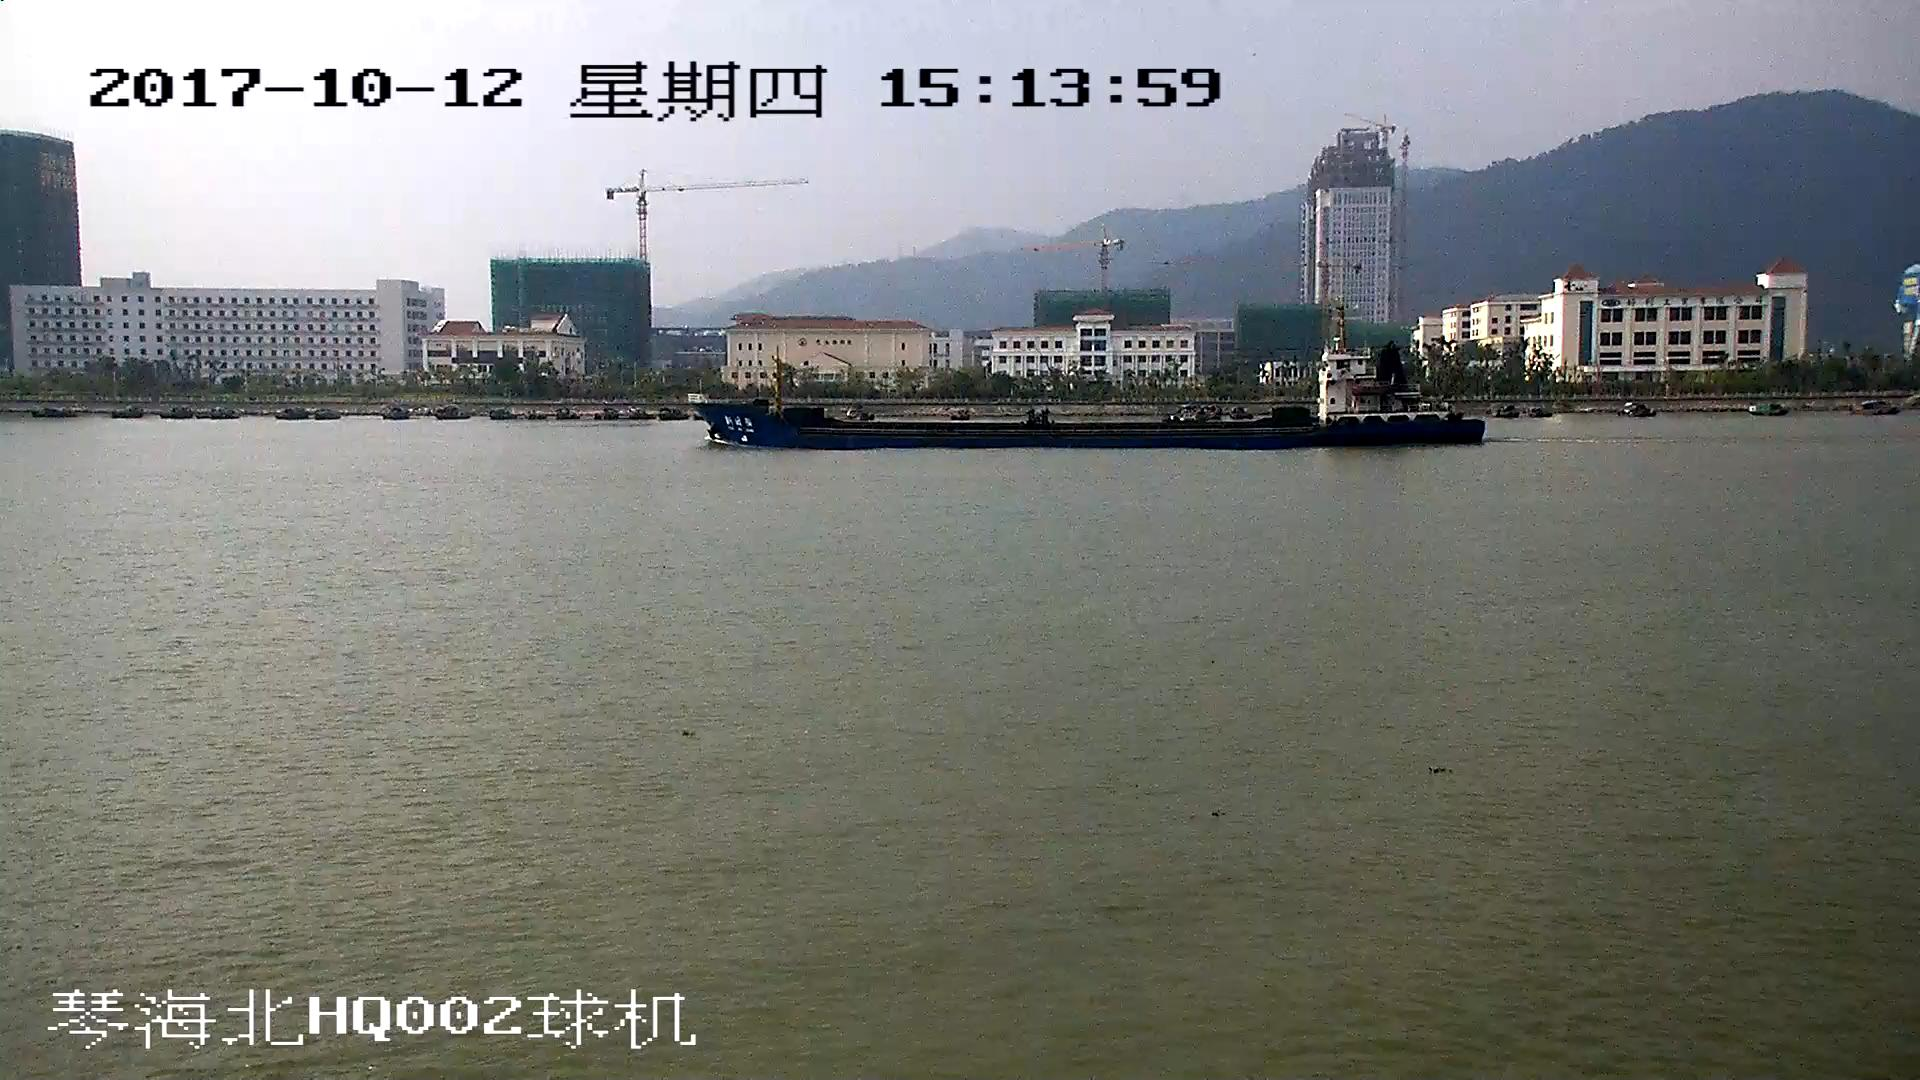general cargo ship: (694, 326, 1490, 452)
